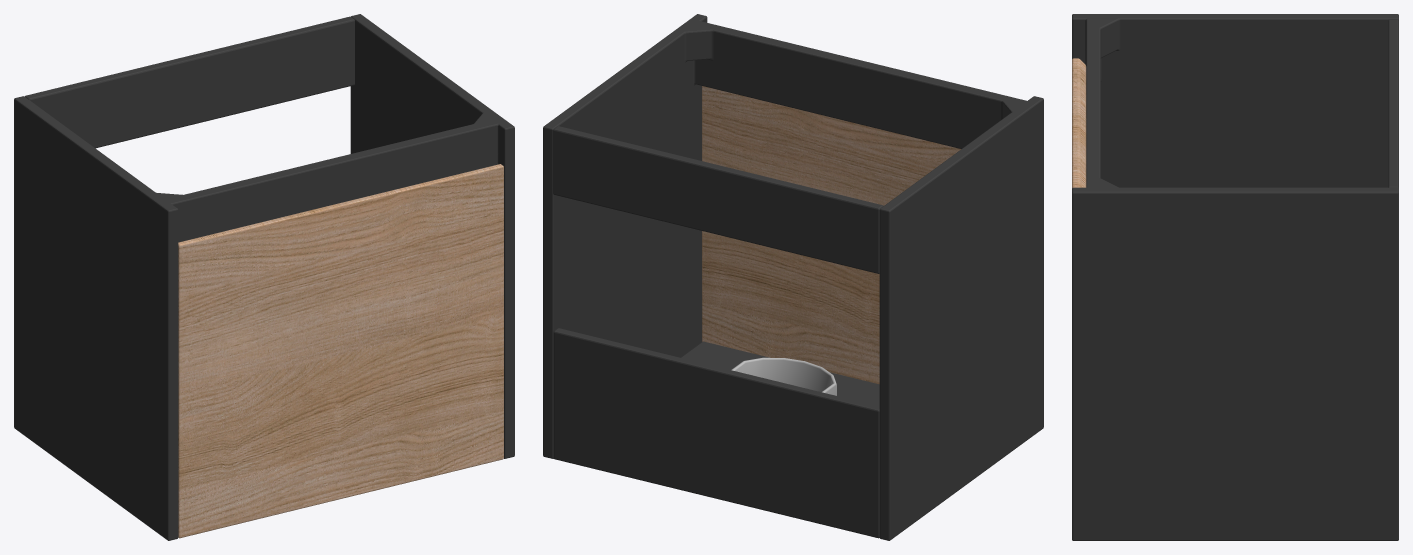
File: Vanity-Cabinet-Hybrid-Pine-500mm.glb
3 views of the same model, side by side, from view 1: azimuth 30°, elevation 25°; view 2: azimuth 150°, elevation 25°; view 3: azimuth 270°, elevation 25° (orthographic). The views are drawn at different scales.
Parts seen in each view (by area): view 1: VC80 1.004; view 2: VC80 1.004; view 3: VC80 1.004.
Boxes of the visible parts, <box> form: VC80 1.004: <box>14,14,514,540</box>; VC80 1.004: <box>543,14,1043,540</box>; VC80 1.004: <box>1072,14,1398,540</box>.
Size of the model in its own units: 0.5 by 0.455 by 0.386.
3 materials, 1 textured.
